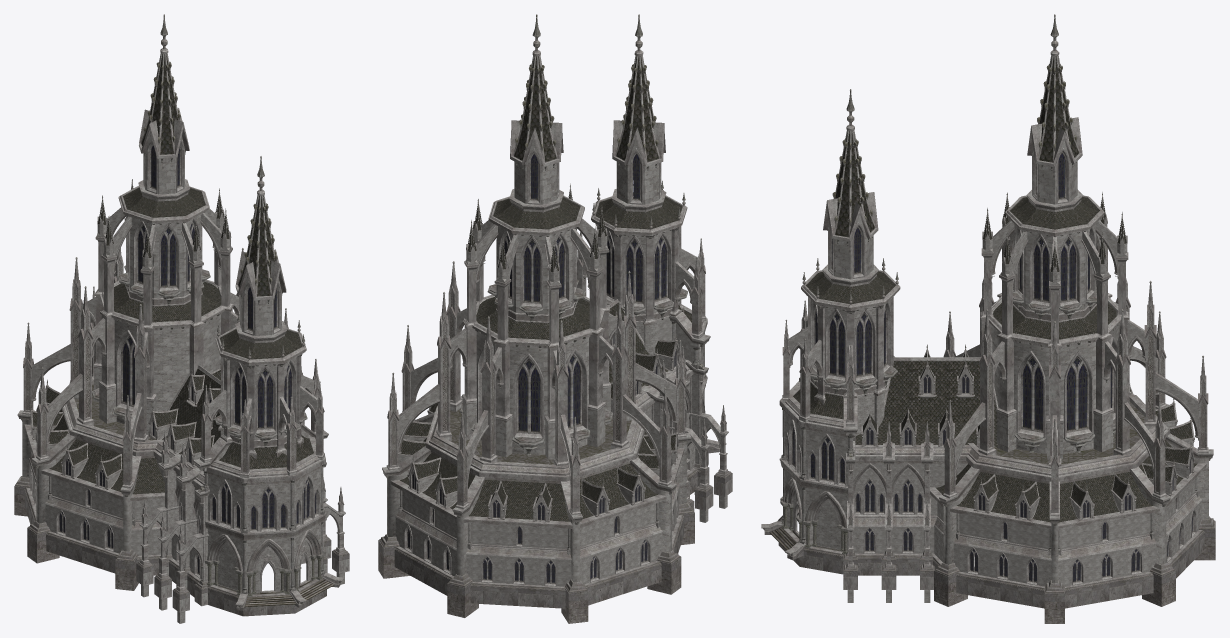
The model's file is eso_ss4_building1-transformed.glb.
3 renders of one model, left to right at view 1: azimuth 30°, elevation 25°; view 2: azimuth 150°, elevation 25°; view 3: azimuth 270°, elevation 25°, orthographic. The views are drawn at different scales.
Visible parts, largest first — view 1: default; view 2: default; view 3: default.
Boxes of the visible parts, x1=… form: default: x1=14, y1=14, x2=349, y2=623; default: x1=378, y1=14, x2=732, y2=623; default: x1=761, y1=14, x2=1215, y2=623.
Size of the model in its own units: 92.21 by 173 by 130.
8 materials, 8 textured.
